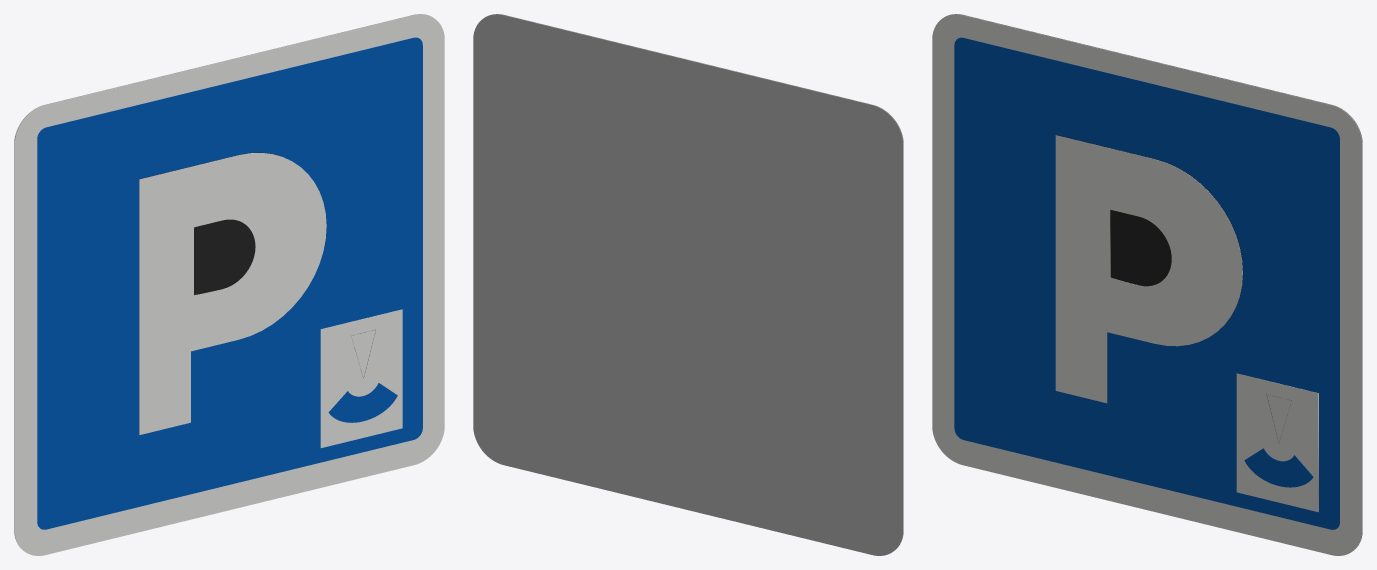
The picture shows the model from 3 angles, left to right: view 1: azimuth 30°, elevation 25°; view 2: azimuth 150°, elevation 25°; view 3: azimuth 330°, elevation 25°; orthographic projection.
Visible parts, largest first — view 1: C1b_p01, C1b_p00, C1b_p04, C1b_p05, C1b_p03, C1b_p06, C1b_dos; view 2: C1b_dos, C1b_p00; view 3: C1b_p01, C1b_p00, C1b_p04, C1b_p05, C1b_p03, C1b_p06, C1b_dos.
Part boxes in pixels (box(x1,y1,x2,y2)): C1b_p01: box(37, 37, 422, 529); C1b_p00: box(14, 14, 444, 555); C1b_p04: box(139, 153, 326, 434); C1b_p05: box(320, 309, 402, 447); C1b_p03: box(194, 219, 255, 295); C1b_p06: box(328, 383, 397, 422); C1b_dos: box(14, 14, 431, 547); C1b_dos: box(473, 14, 903, 555); C1b_p00: box(486, 14, 903, 547); C1b_p01: box(954, 37, 1339, 529); C1b_p00: box(932, 14, 1362, 555); C1b_p04: box(1055, 135, 1242, 403); C1b_p05: box(1236, 373, 1318, 512); C1b_p03: box(1110, 209, 1171, 286); C1b_p06: box(1244, 448, 1313, 487); C1b_dos: box(945, 14, 1362, 547).
Bounding box in the file's own units: 0.7 × 0.6999 × 0.0047.
